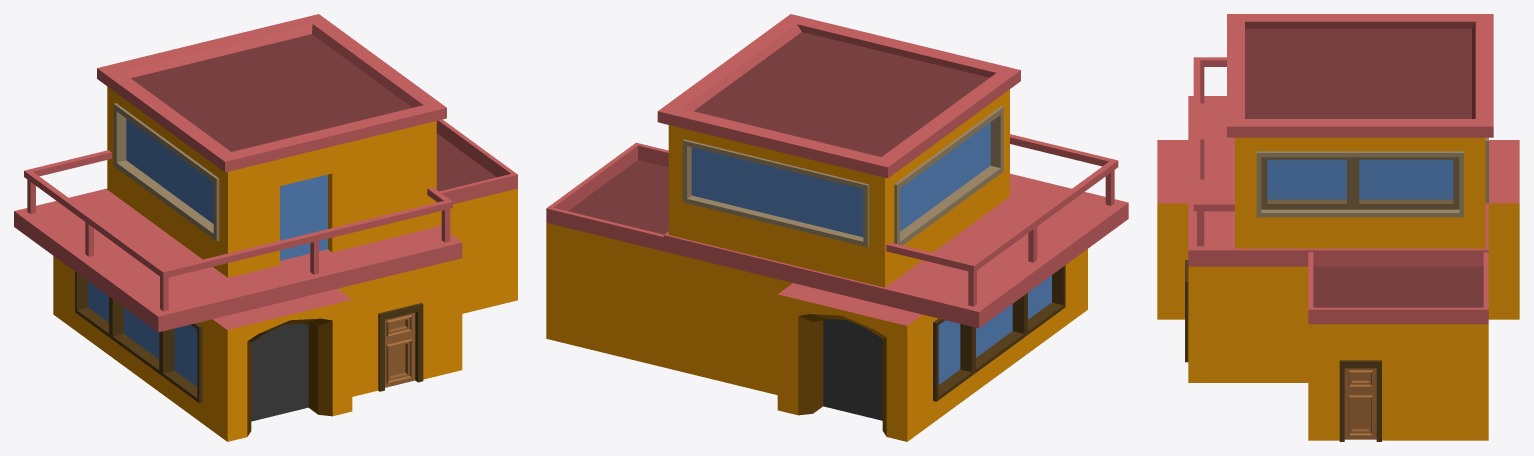
The model's file is House-4.fbx.
The picture shows the model from 3 angles, left to right: view 1: azimuth 30°, elevation 25°; view 2: azimuth 150°, elevation 25°; view 3: azimuth 270°, elevation 25°; orthographic projection. The views are drawn at different scales.
Visible parts, largest first — view 1: House-4; view 2: House-4; view 3: House-4.
Part boxes in pixels (x1,y1,x2,y2): House-4: (14, 14, 517, 441); House-4: (546, 14, 1128, 441); House-4: (1157, 14, 1519, 441).
Size of the model in its own units: 26.74 by 15.08 by 19.19.
